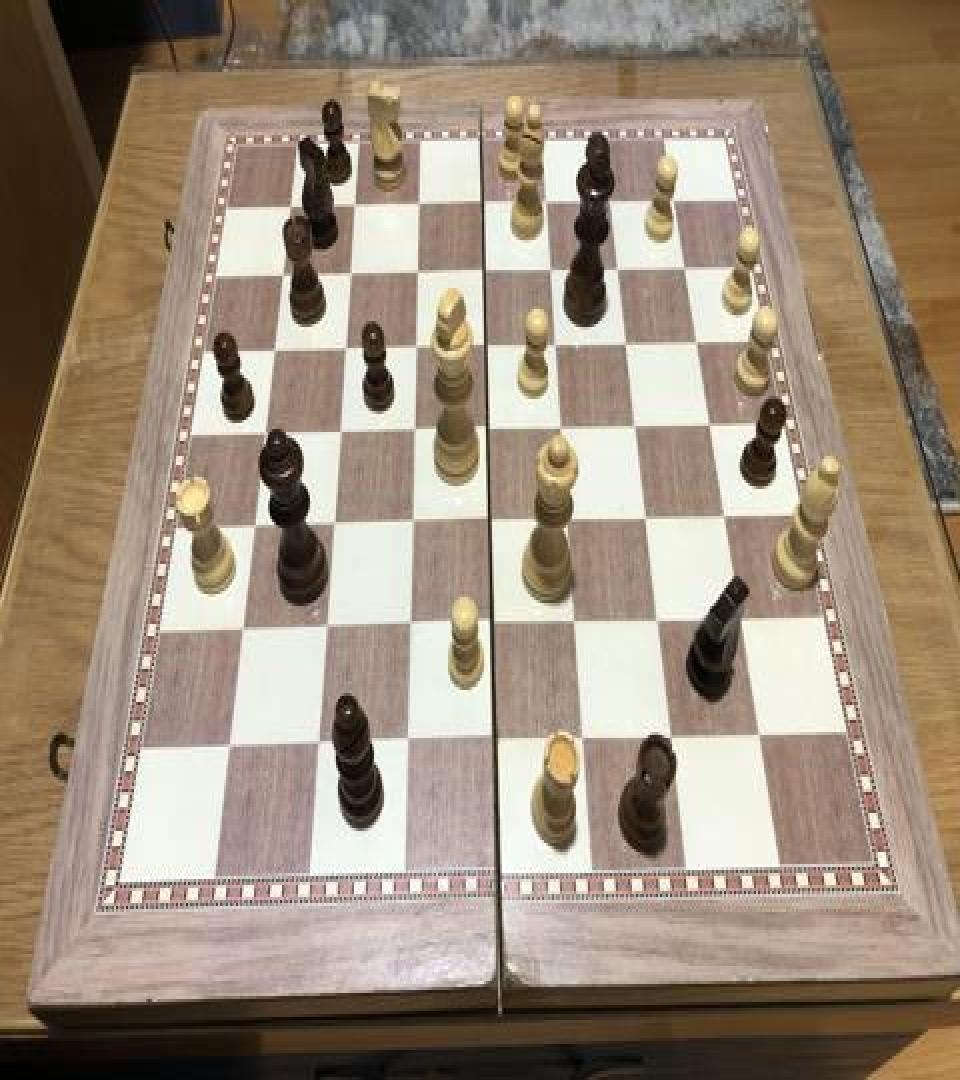xcorner: (318, 610, 342, 647), (311, 727, 335, 764), (601, 189, 625, 225), (538, 189, 562, 225), (474, 189, 498, 225), (410, 190, 434, 226), (346, 190, 370, 226), (281, 192, 305, 228), (675, 254, 699, 290), (609, 255, 633, 291), (542, 256, 566, 292), (476, 256, 500, 292), (409, 258, 433, 294), (341, 258, 365, 294), (687, 327, 711, 363), (548, 330, 572, 366), (478, 330, 502, 366), (407, 332, 431, 368), (337, 333, 361, 369), (265, 334, 289, 370), (701, 408, 725, 444), (628, 410, 652, 446), (554, 411, 578, 447), (406, 414, 430, 450), (331, 416, 355, 452), (256, 417, 280, 453), (716, 500, 740, 536), (639, 501, 663, 537), (561, 502, 585, 538), (483, 504, 507, 540), (404, 506, 428, 542), (325, 507, 349, 543), (246, 510, 270, 546), (733, 600, 757, 636), (651, 603, 675, 639), (568, 604, 592, 640), (486, 608, 510, 644), (402, 609, 426, 645), (234, 614, 258, 650), (752, 716, 776, 752), (665, 717, 689, 753), (577, 720, 601, 756), (489, 723, 513, 759), (400, 726, 424, 762), (221, 730, 245, 766), (664, 188, 688, 223), (274, 260, 298, 295), (618, 329, 642, 364), (480, 413, 504, 448)
